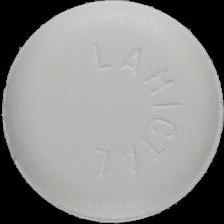0173-0777: (0, 0, 224, 224)
